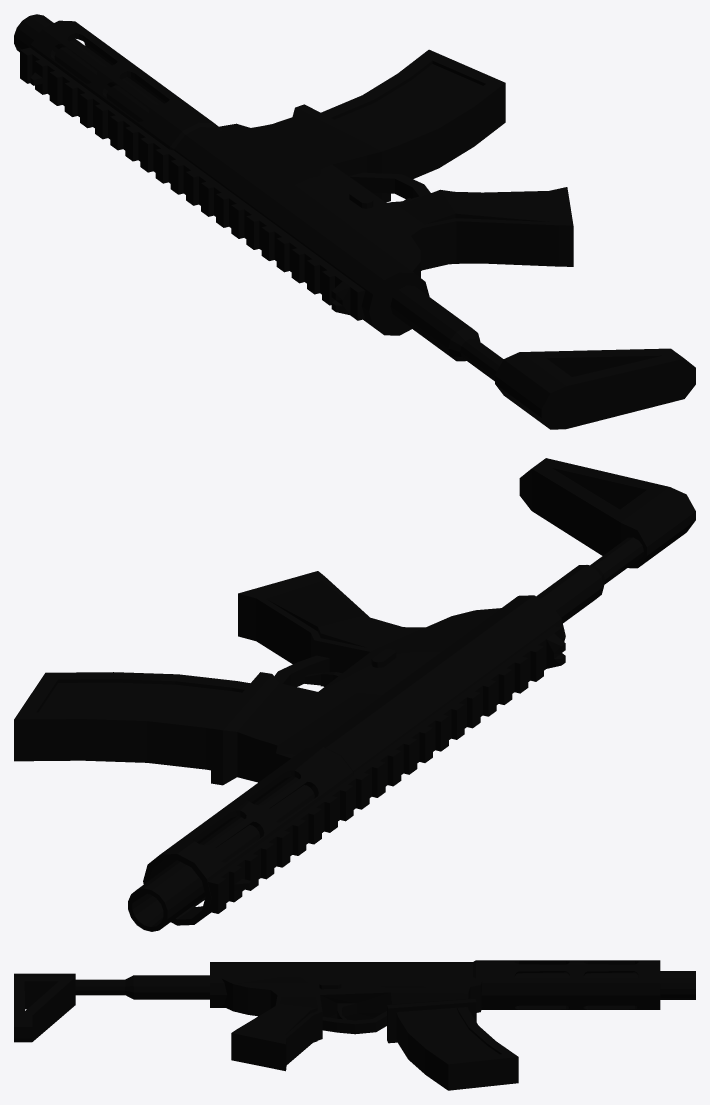
Rendered from Submachine Gun-fQmBw1vNsl.glb.
3 renders of one model, top to bottom at view 1: azimuth 30°, elevation 25°; view 2: azimuth 150°, elevation 25°; view 3: azimuth 270°, elevation 25°, orthographic. The views are drawn at different scales.
Visible parts, largest first — view 1: Submachine gun; view 2: Submachine gun; view 3: Submachine gun.
Boxes of the visible parts, x1,y1,x2,y2 form: Submachine gun: (14, 14, 695, 429); Submachine gun: (14, 458, 695, 931); Submachine gun: (14, 960, 695, 1090).
Size of the model in its own units: 0.5261 by 0.1028 by 1.41.
Materials: 1 (1 with a texture image).
